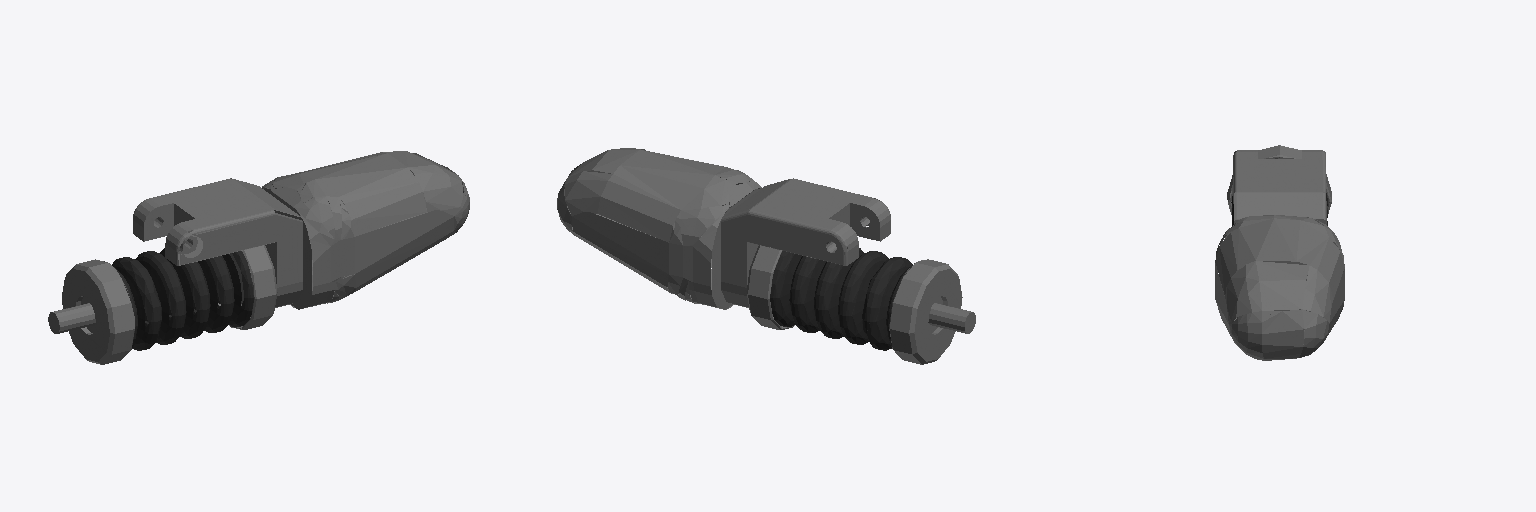
3 renders of one model, left to right at view 1: azimuth 30°, elevation 25°; view 2: azimuth 150°, elevation 25°; view 3: azimuth 270°, elevation 25°, orthographic.
Bounding box in the file's own units: 0.0605 × 0.0186 × 0.0168.
Materials: 1 (1 with a texture image).